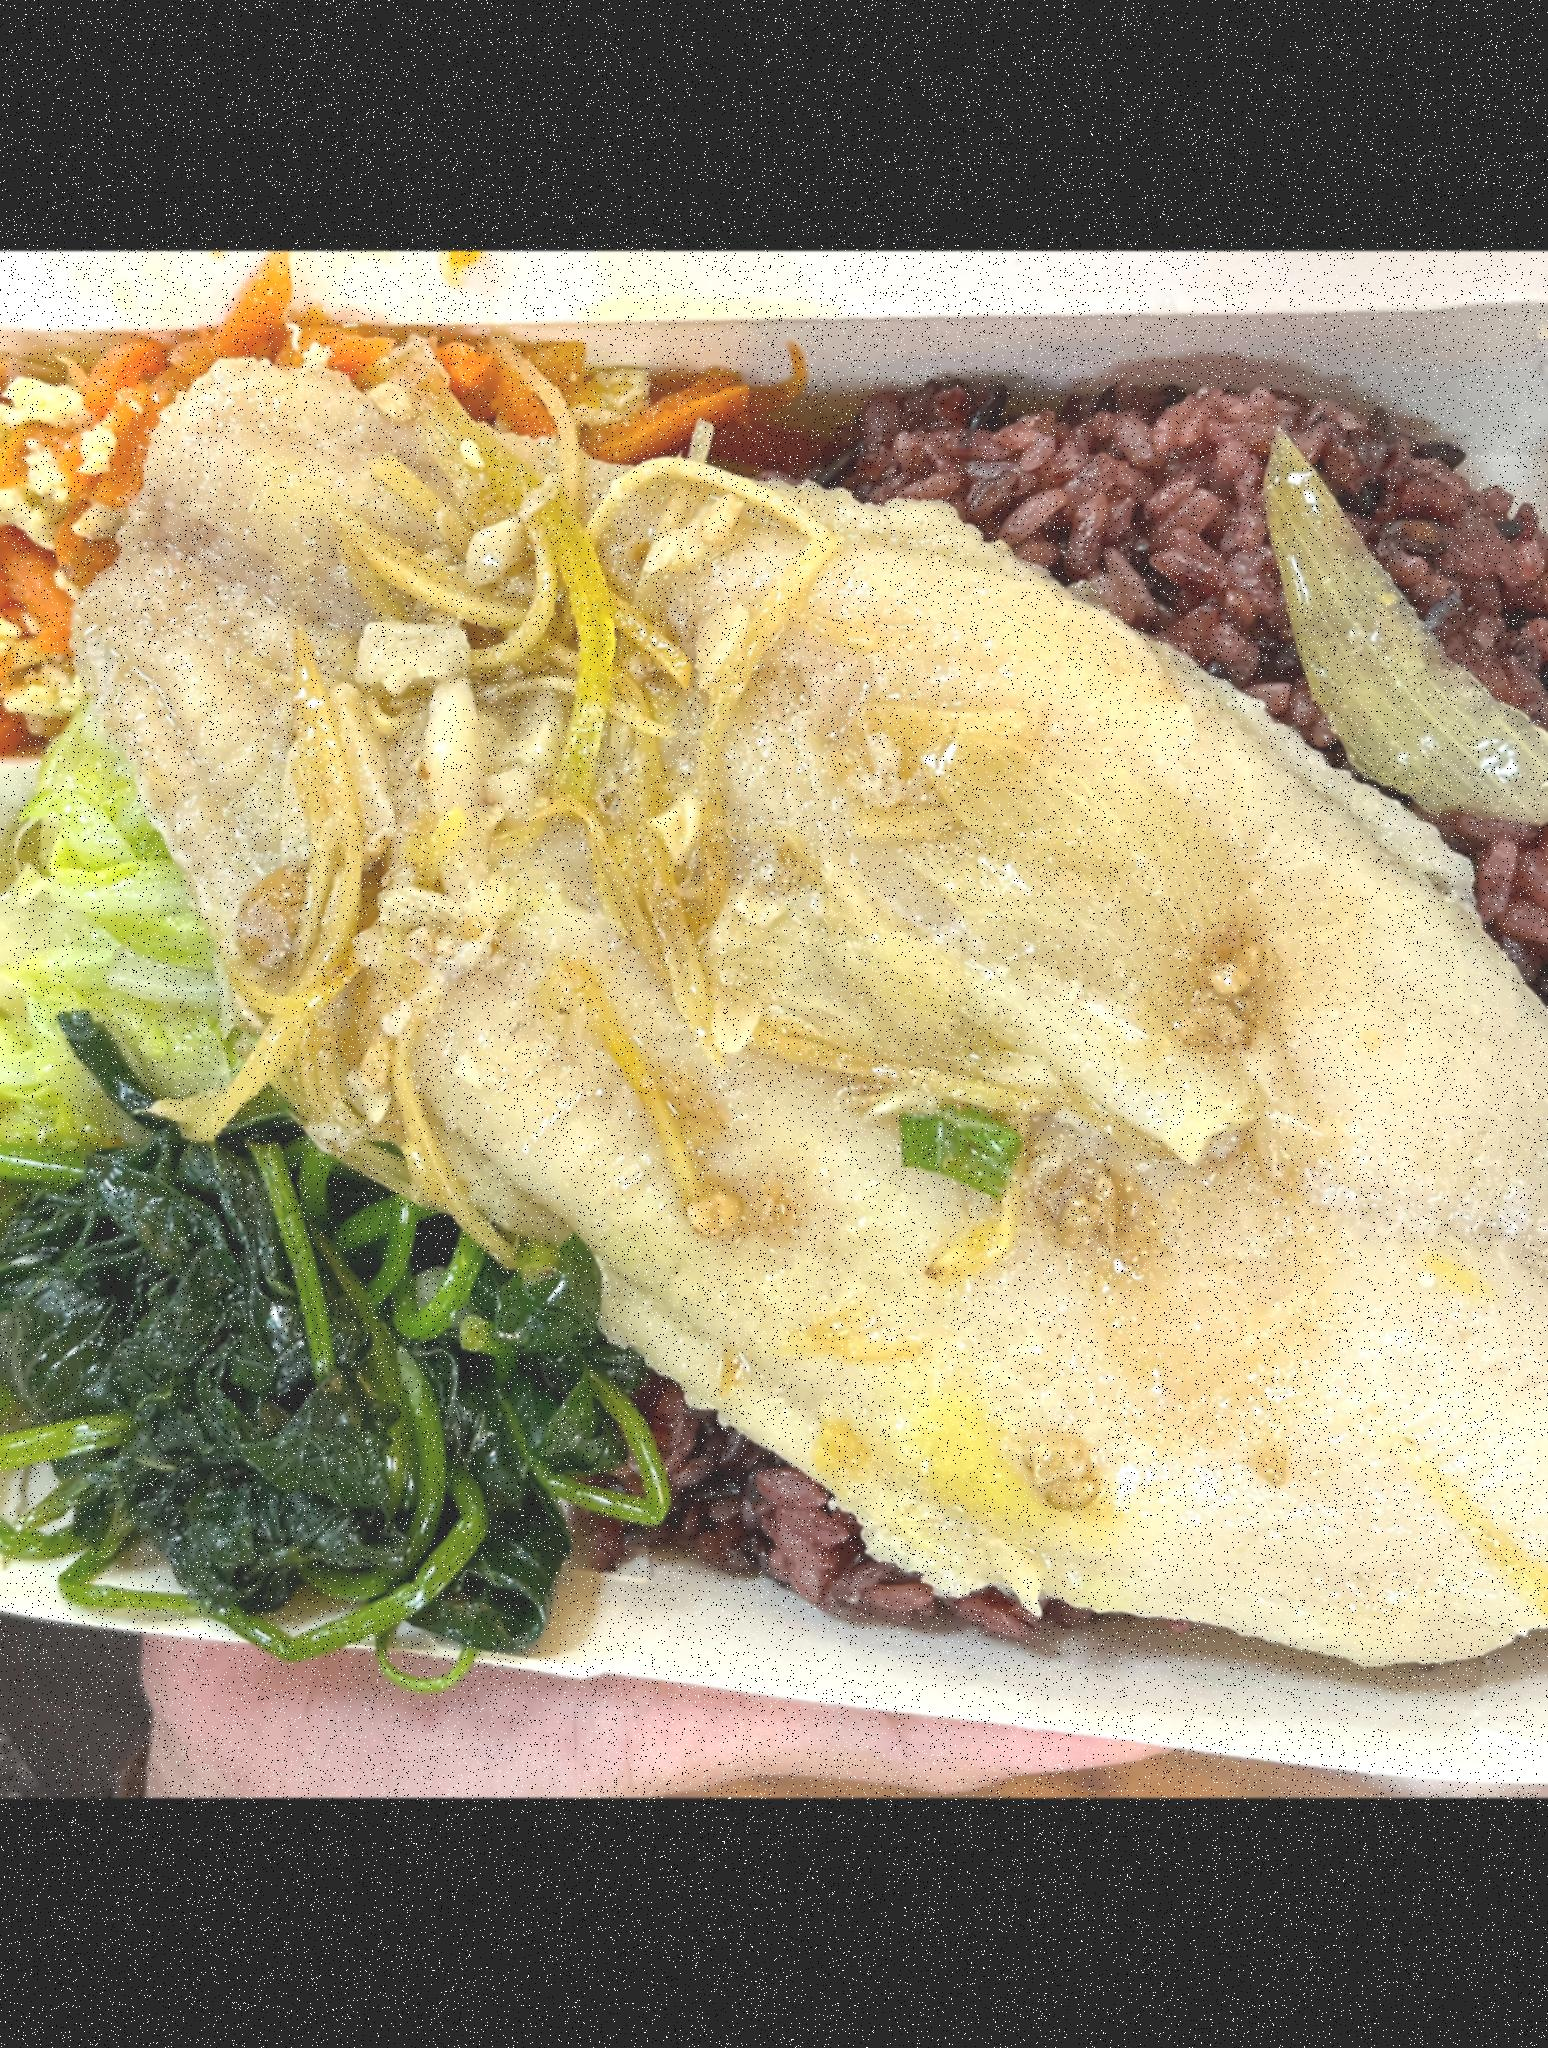big grilled chicken leg: (0, 270, 1548, 1797)
braised fish: (725, 347, 1548, 1668)
braised fish fillet: (0, 1129, 627, 1668), (0, 316, 615, 790), (0, 793, 591, 1150)
braised pork ribs: (141, 386, 1548, 1683)
